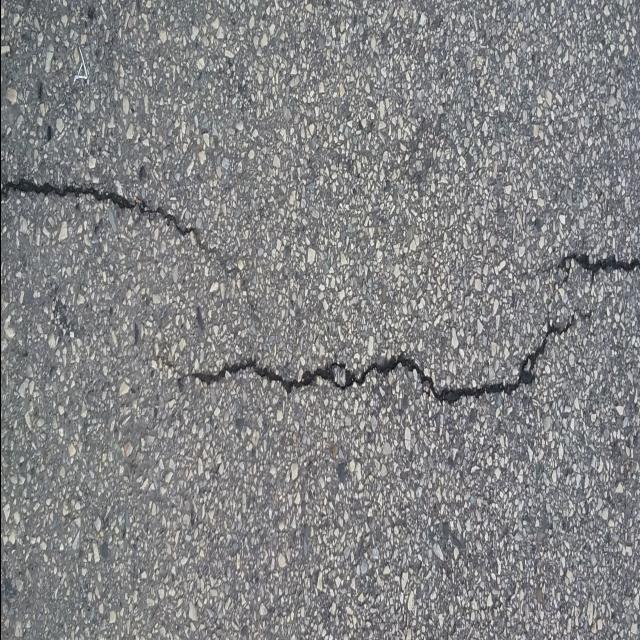Crack: (194, 316, 571, 404), (0, 174, 218, 261), (552, 246, 640, 287)
